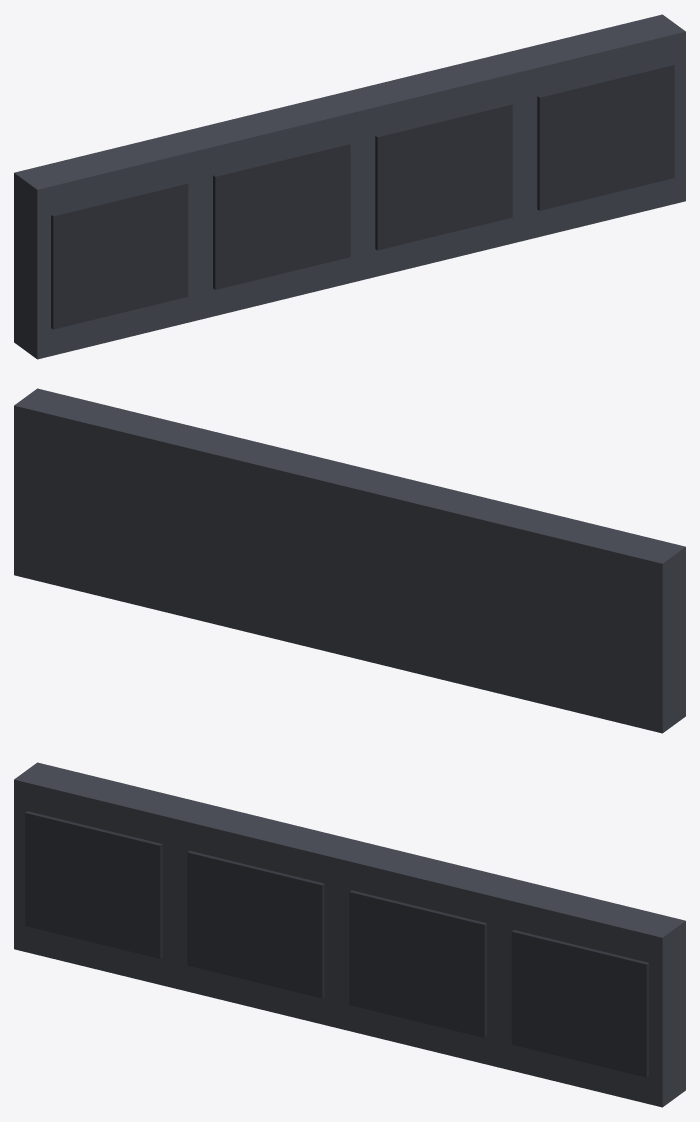
Rendered from prop_monitors.glb.
3 views of the same model, one above another, from view 1: azimuth 30°, elevation 25°; view 2: azimuth 150°, elevation 25°; view 3: azimuth 330°, elevation 25° (orthographic).
Visible parts, largest first — view 1: monitors; view 2: monitors; view 3: monitors.
Part boxes in pixels (<box>): monitors: <box>14,14,685,359</box>; monitors: <box>14,388,685,733</box>; monitors: <box>14,762,685,1107</box>.
Size of the model in its own units: 0.96 by 0.24 by 0.066.
2 materials, 1 textured.
